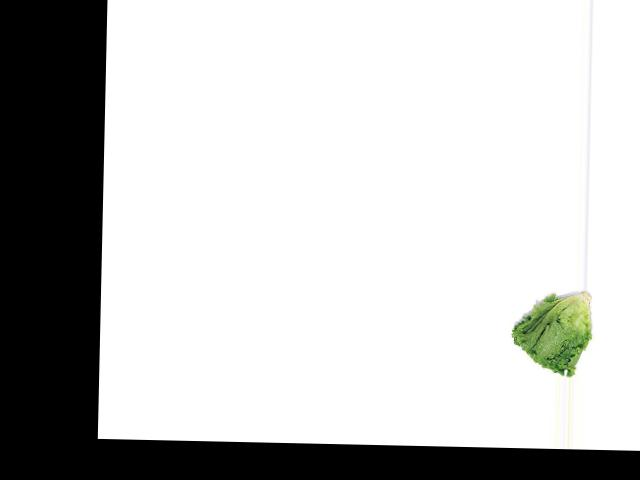lettuce: (503, 287, 599, 377)
